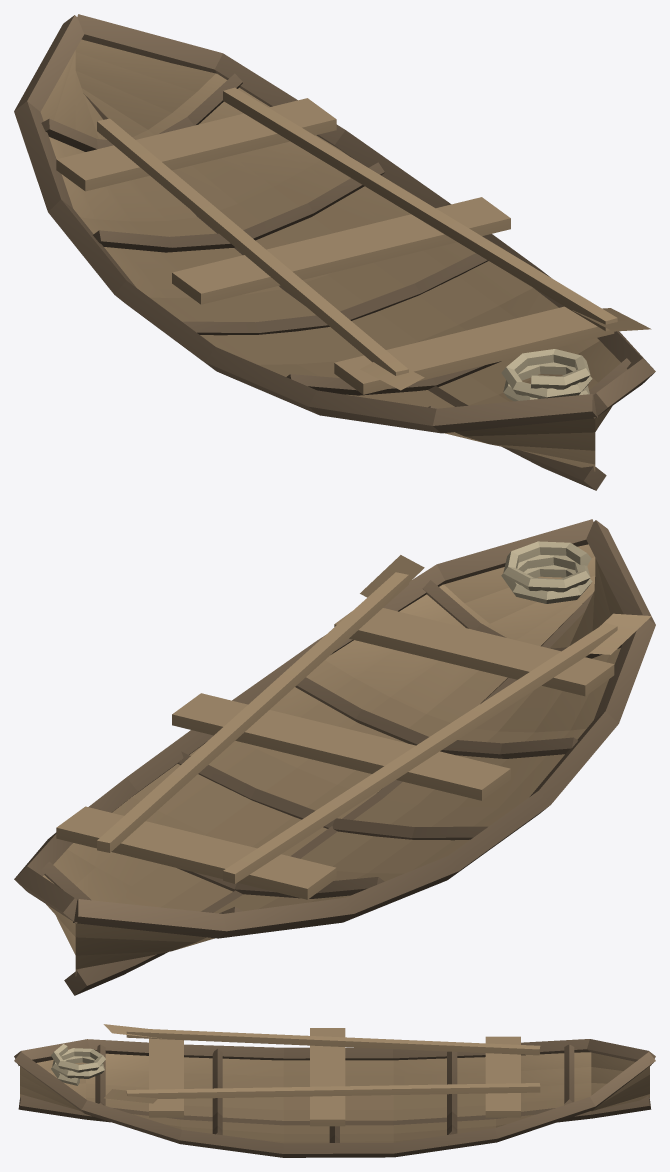
File: boat_row.glb
3 views of the same model, one above another, from view 1: azimuth 30°, elevation 25°; view 2: azimuth 150°, elevation 25°; view 3: azimuth 270°, elevation 25° (orthographic). The views are drawn at different scales.
Visible parts, largest first — view 1: boat_row; view 2: boat_row; view 3: boat_row.
Part boxes in pixels (x1=…): boat_row: x1=14, y1=14, x2=655, y2=490; boat_row: x1=14, y1=519, x2=655, y2=995; boat_row: x1=14, y1=1024, x2=655, y2=1157.
Size of the model in its own units: 1.65 by 0.6336 by 4.38.
